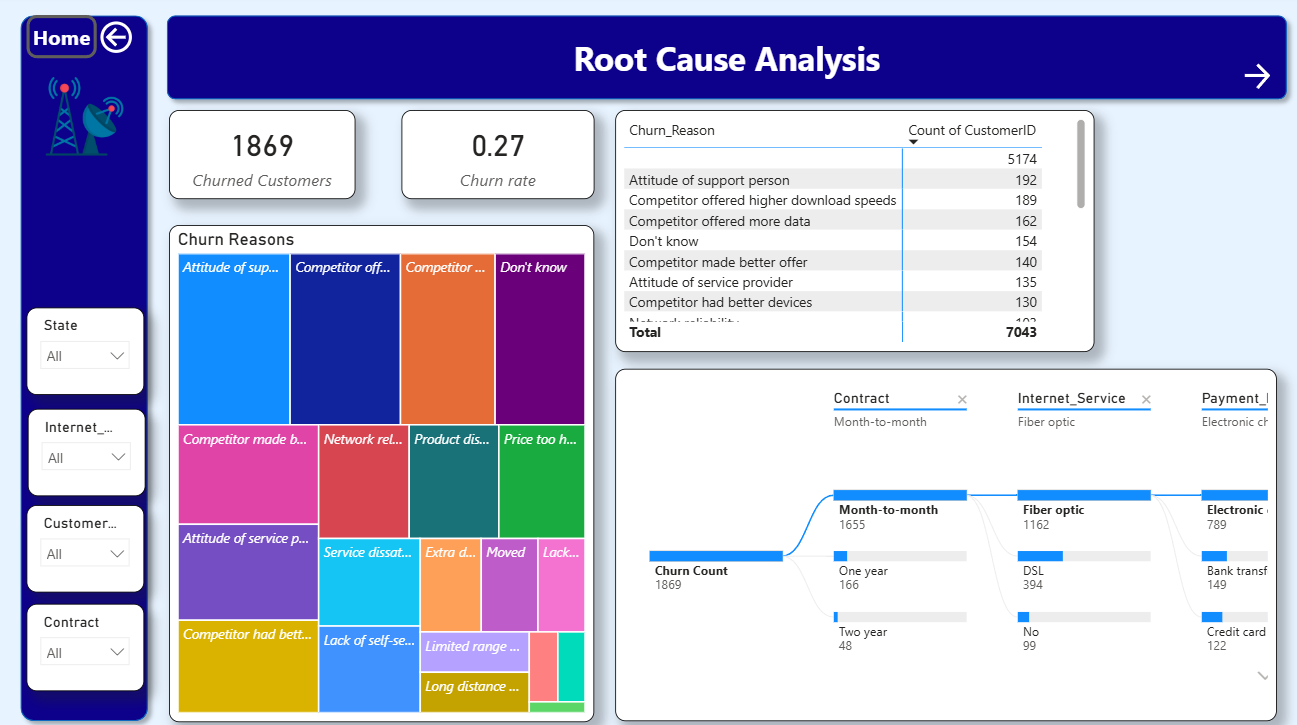

Layout of this report page (visuals, bound fields, positions):
{"tool":"powerbi","page":{"name":"Root Cause Analysis","canvas":[1280,720],"ordinal":6},"visuals":[{"type":"shape","box":[155.2,11.5,1113.5,100.1],"z":0},{"type":"shape","box":[12.8,11.5,142.4,708.1],"z":1000},{"type":"slicer","fields":{"Values":["TELCO.State"]},"box":[26.4,305.2,114.9,85.9],"z":2000},{"type":"slicer","fields":{"Values":["TELCO.Internet_Service"]},"box":[27.7,404.3,114.9,85.9],"z":3000},{"type":"card","fields":{"Values":["TELCO.Churned Customers"]},"box":[166.5,112.3,182.3,87.2],"z":4000},{"type":"card","fields":{"Values":["TELCO.Churn rate"]},"box":[393.7,112.3,188.9,87.2],"z":5000},{"type":"slicer","fields":{"Values":["TELCO.Customer_Segment"]},"box":[26.4,499.4,114.9,85.9],"z":6000},{"type":"slicer","fields":{"Values":["TELCO.Contract"]},"box":[26.4,595.9,114.9,85.9],"z":7000},{"type":"treemap","title":"Churn Reasons","fields":{"Group":["TELCO.Churn_Reason"],"Values":["CountNonNull(TELCO.CustomerID)"]},"box":[166.5,224.6,416.2,486.2],"z":8000},{"type":"pivotTable","fields":{"Rows":["TELCO.Churn_Reason"],"Values":["CountNonNull(TELCO.CustomerID)"]},"box":[602.5,112.3,469,236.5],"z":9000},{"type":"decompositionTreeVisual","fields":{"Analyze":["TELCO.Churn Count"],"ExplainBy":["TELCO.Contract","TELCO.Internet_Service","TELCO.Payment_Method","TELCO.Customer_Segment","TELCO.Senior_Citizen","TELCO.Gender","TELCO.State"]},"box":[602.5,366,647.4,344.8],"z":10000},{"type":"actionButton","box":[26.4,19.8,68.7,42.3],"z":11000},{"type":"actionButton","box":[93.8,21.1,60.8,41],"z":12000},{"type":"actionButton","box":[1212.6,62.1,67.4,34.4],"z":13000},{"type":"image","box":[45.2,79.5,77,78.3],"z":13001}]}

Visuals, with their boxes in screenshot pixels (x1, y1, x2, y2), scaled from the page's 1280x720 canvas onto the 1297x725 screenshot:
shape: locate(157, 12, 1286, 112)
shape: locate(13, 12, 157, 724)
slicer - TELCO.State: locate(27, 307, 143, 394)
slicer - TELCO.Internet_Service: locate(28, 407, 144, 494)
card - TELCO.Churned Customers: locate(169, 113, 353, 201)
card - TELCO.Churn rate: locate(399, 113, 590, 201)
slicer - TELCO.Customer_Segment: locate(27, 503, 143, 589)
slicer - TELCO.Contract: locate(27, 600, 143, 687)
"Churn Reasons" treemap: locate(169, 226, 590, 716)
pivotTable - TELCO.Churn_Reason x CountNonNull(TELCO.CustomerID): locate(611, 113, 1086, 351)
decompositionTreeVisual - TELCO.Churn Count x TELCO.Contract: locate(611, 369, 1267, 716)
actionButton: locate(27, 20, 96, 63)
actionButton: locate(95, 21, 157, 63)
actionButton: locate(1229, 63, 1296, 97)
image: locate(46, 80, 124, 159)
